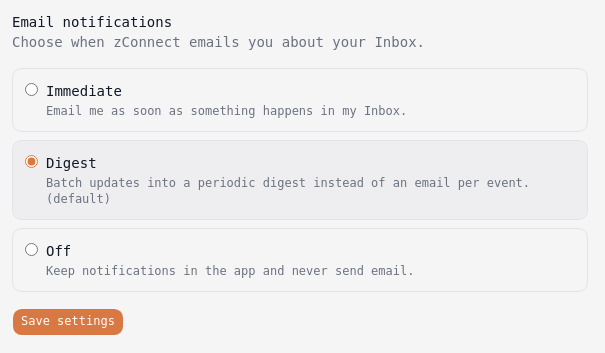
Test case: notification settings › saves the selected immediate mode
Expected: the radio button labelled "Digest" is shown, left=25, top=155, right=38, bottom=168
Click the radio button labelled "Immediate Email me as soon as something happens in my Inbox.": (32, 90) left=25, top=83, right=38, bottom=96
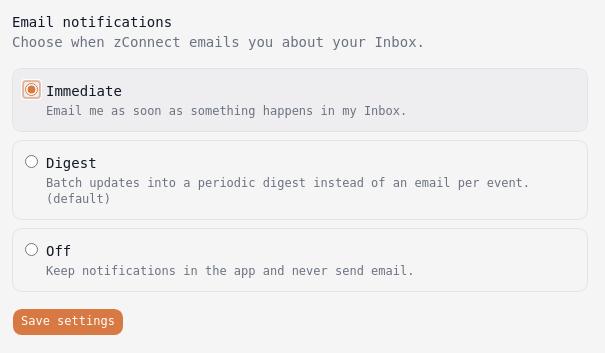
Click the button "Save settings": (68, 322) left=12, top=308, right=124, bottom=336
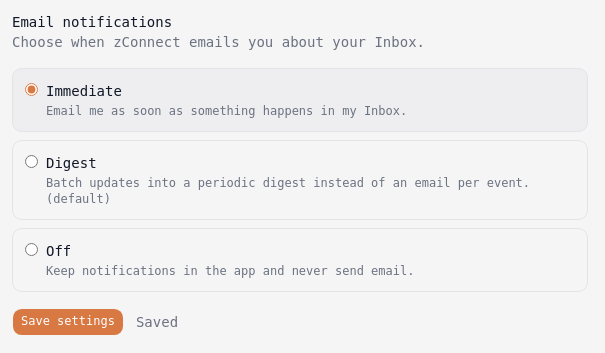
Now the text "Saved" is shown, box left=136, top=312, right=178, bottom=332
